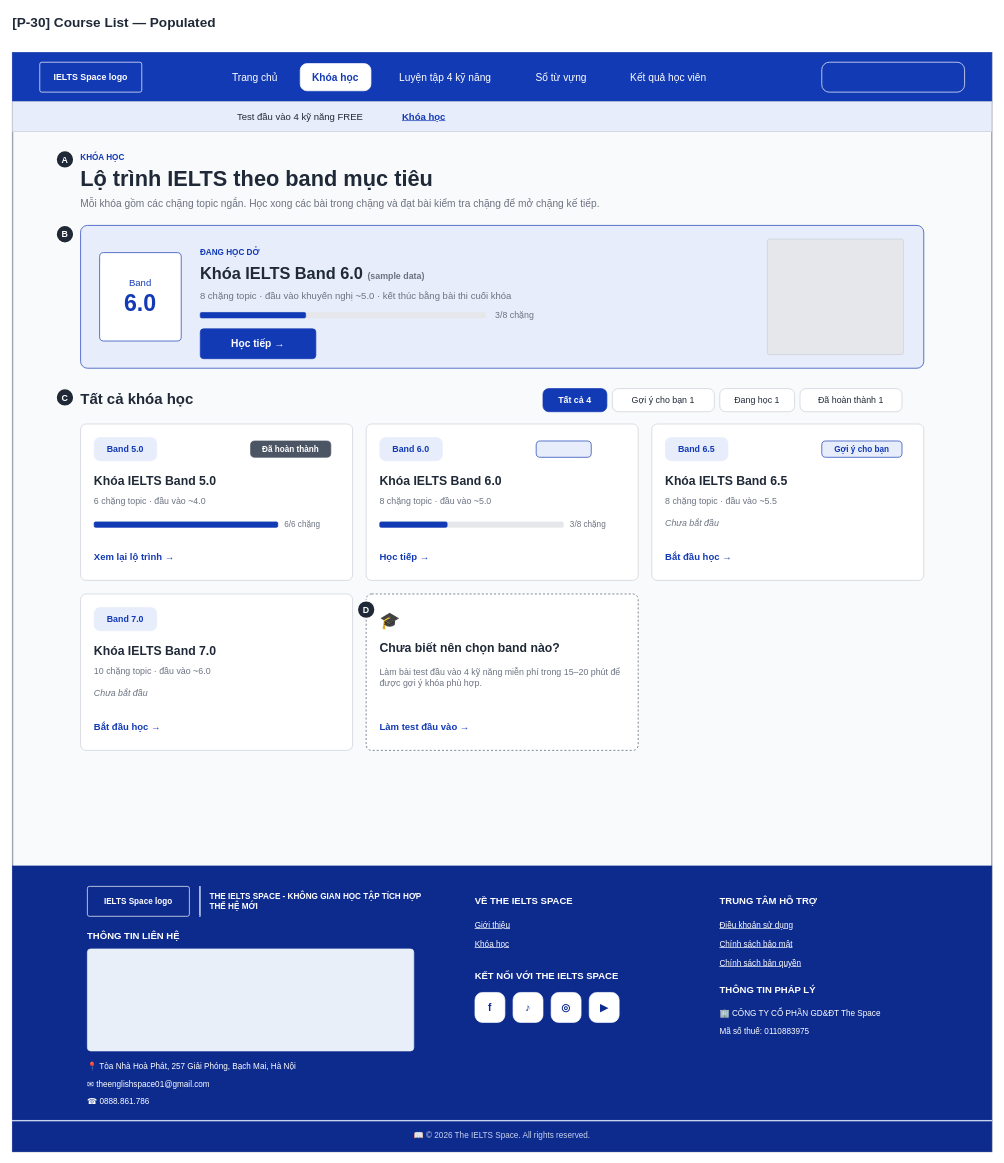
Some shapes in this 1004 by 1163 pixel diagram are drawn without their labels. The shapes that lost their labels are listed below. From the top down, each one's centre as x and y in pixels, then its label:
At (x=893, y=77): "◯ Học viên · 30 Points ▾".
At (x=835, y=296): "▨ Mascot".
At (x=563, y=448): "Đang học".
At (x=250, y=999): "📍 The IELTS Space Mở trong Maps ↗".
